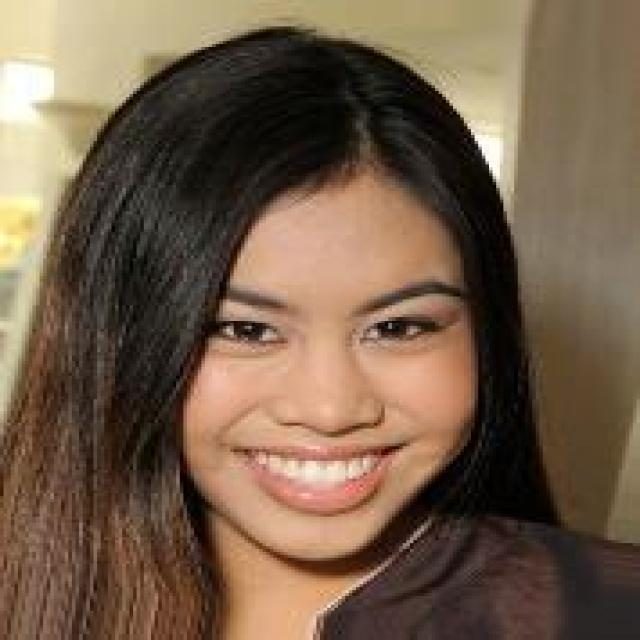bareface: (152, 202, 492, 550)
